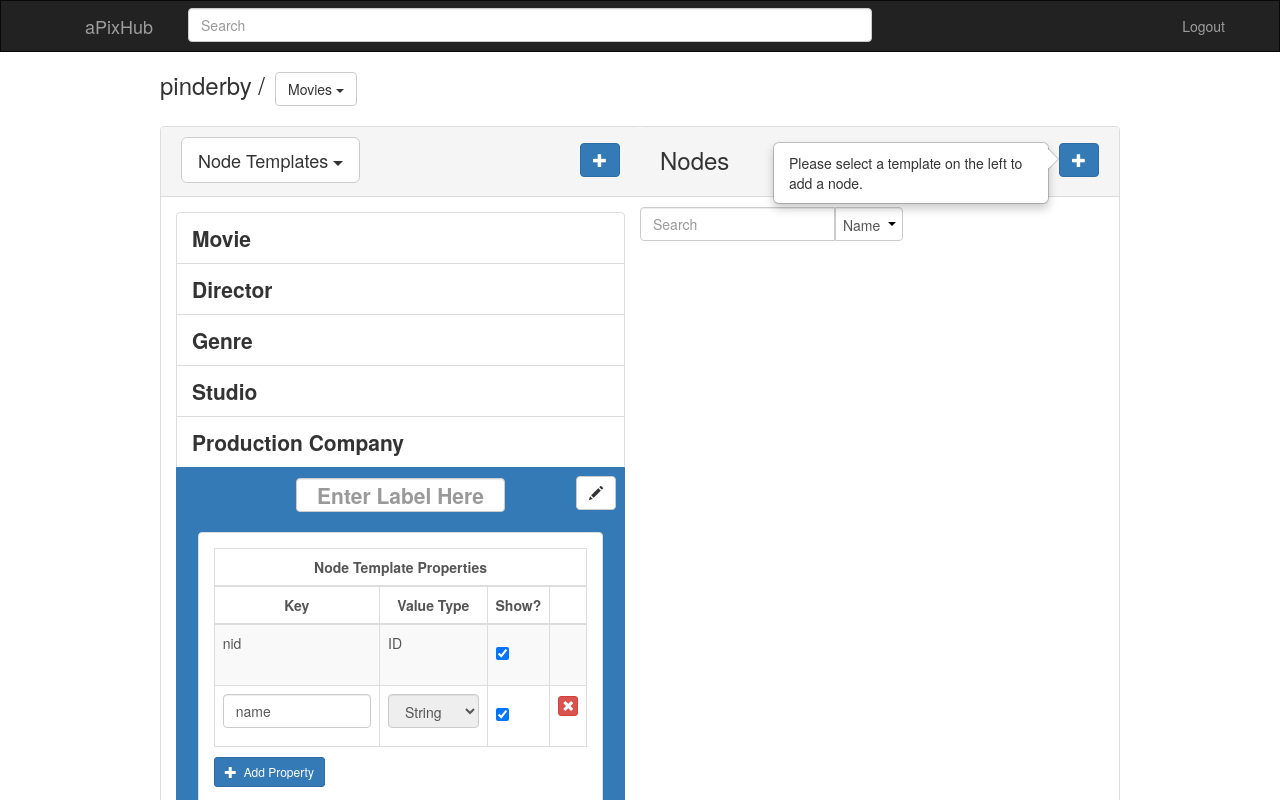
Test case: Repo Component › Properly renders all nodes in 'Movie' in test_data
Click the element with class "template-label-wrapper" showing "Movie": (222, 238) [192,223,251,253]
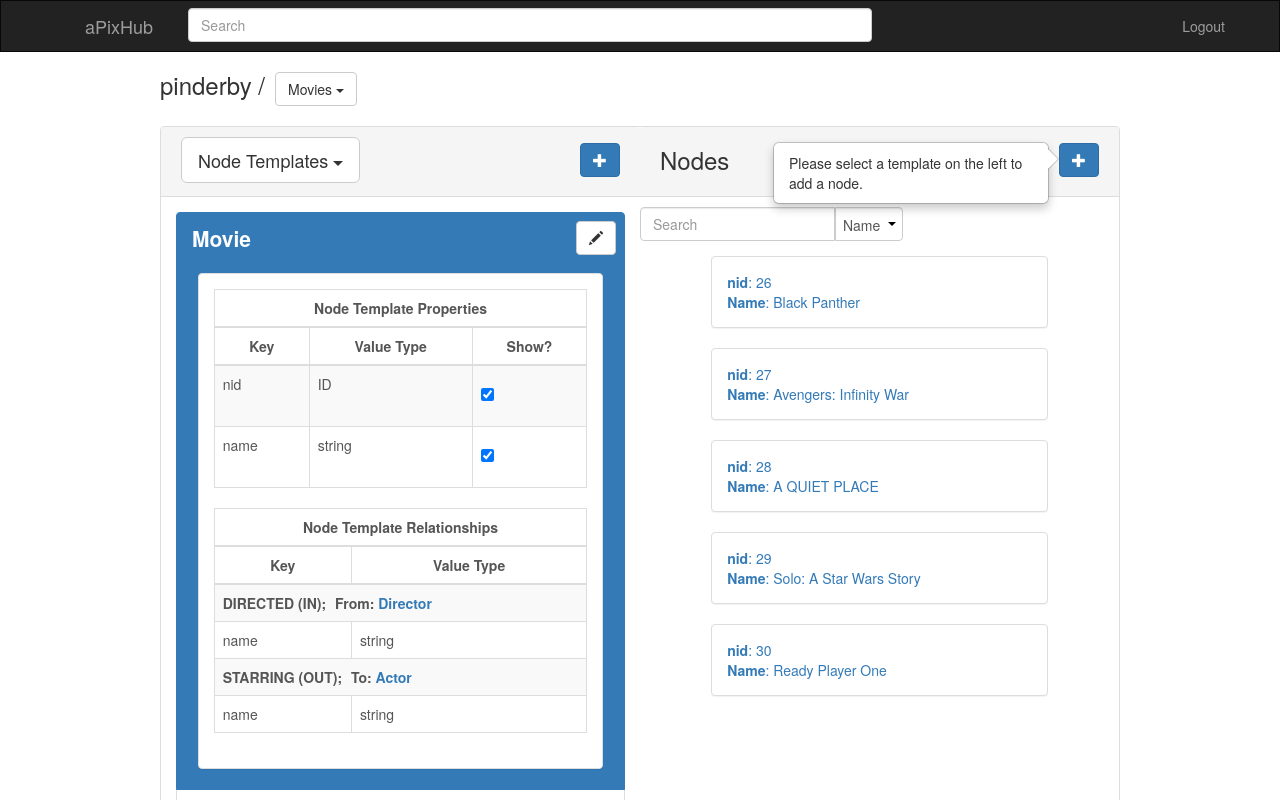
Expected: the number of elements with class "node-instance-wrapper" is 5, [711,256,1048,328]
